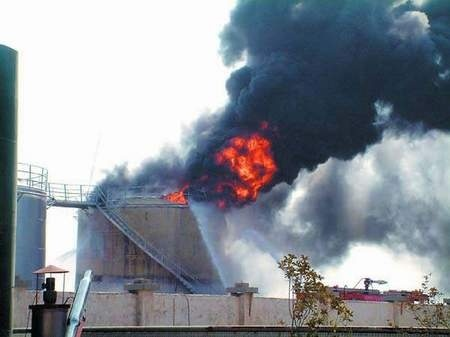fire: (177, 129, 278, 203), (167, 183, 189, 201)
